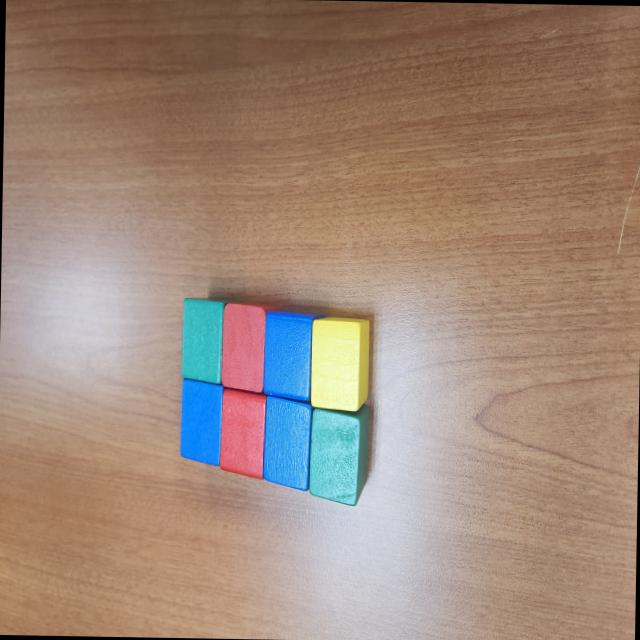blue: (262, 311, 327, 404), (261, 394, 312, 492), (178, 378, 223, 466)
green: (306, 400, 369, 507), (180, 297, 224, 387)
red: (221, 302, 282, 395), (218, 387, 266, 480)
yellow: (310, 316, 370, 414)
